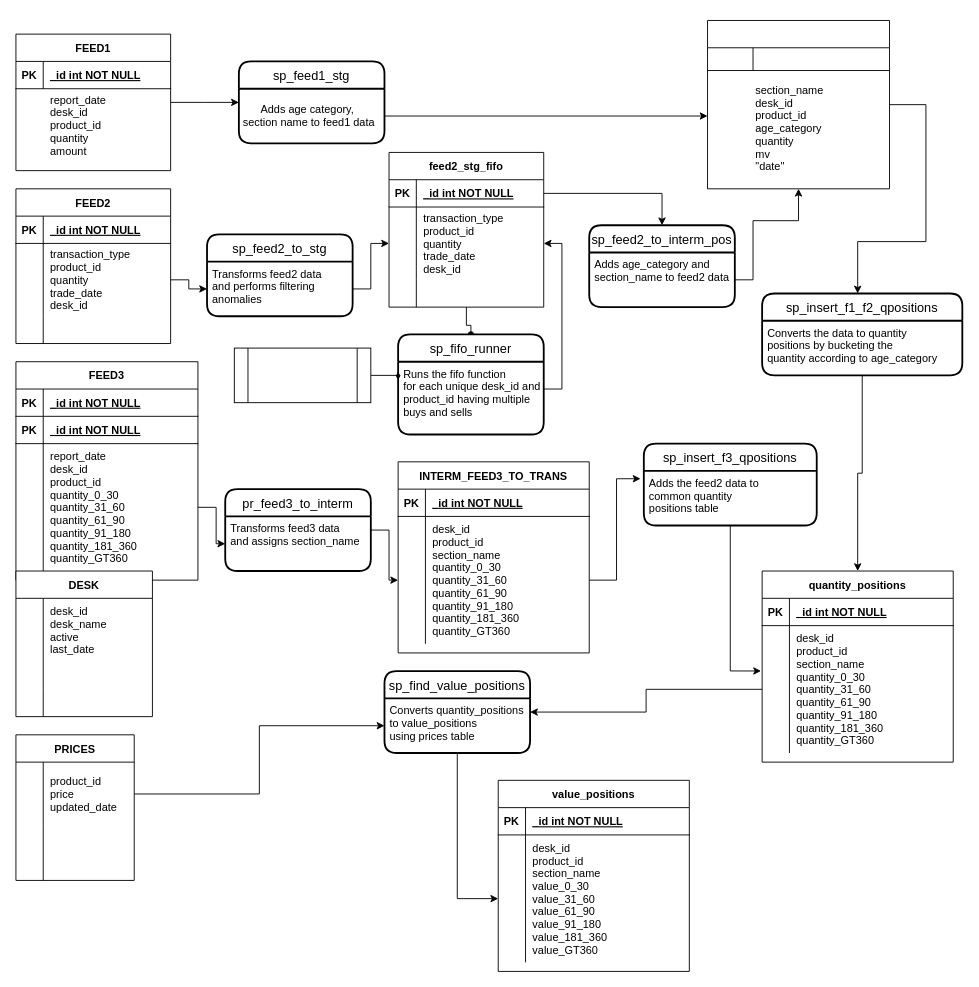
This 979x987 diagram has some shape labels left out. Each missing label, with the centre of its shape:
"fn_fifo (desk_id,product_id) Performs fifo netting" belongs at (302,375).
"INTERMEDIATE_POSITIONS" belongs at (798,104).
